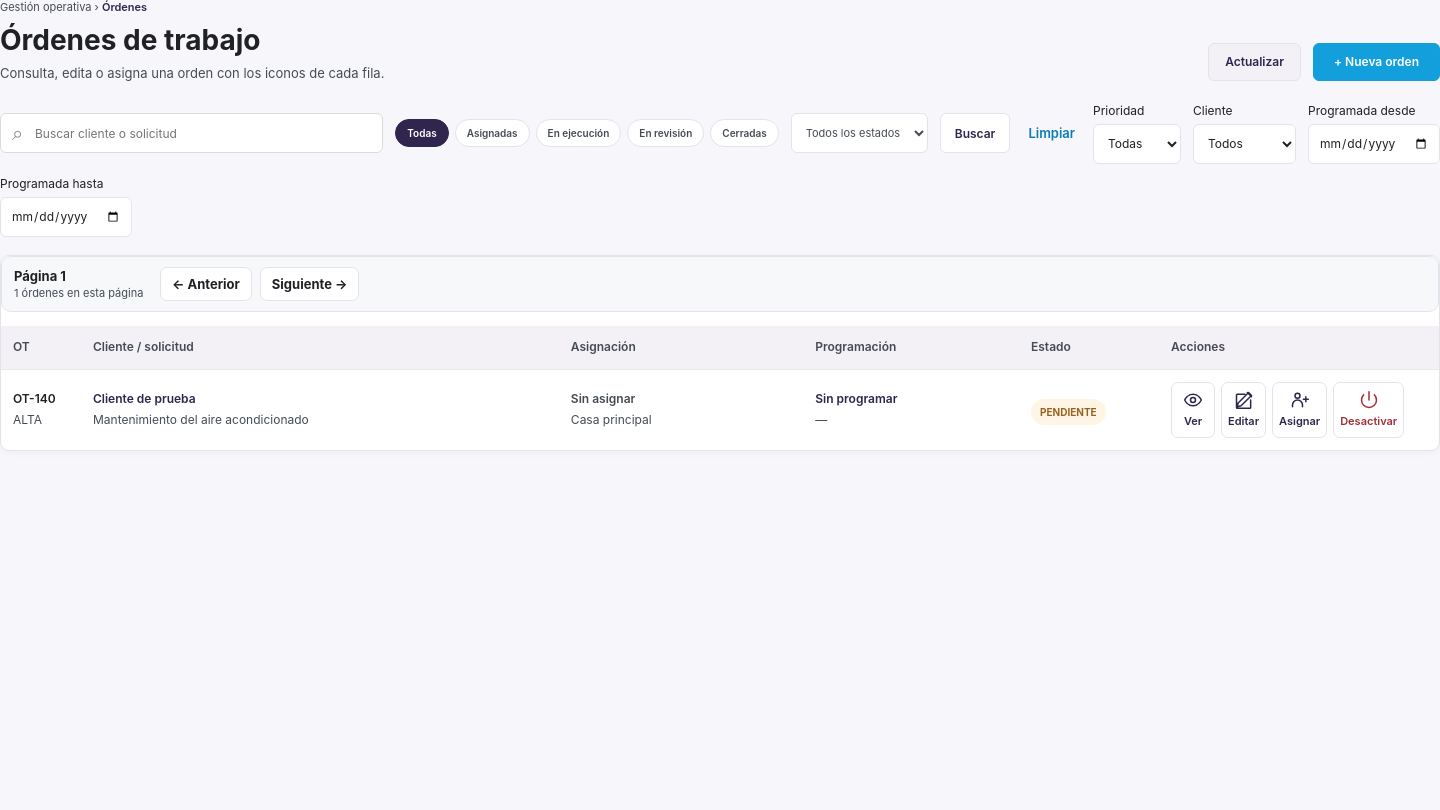
Scenario: Gestión web de órdenes de trabajo › edita desde el listado, envía solo los campos cambiados y conserva los filtros
expect the text "OT-140" is shown: met, box [13,391,56,406]
In the field named "Buscar órdenes": (192, 133) [0,113,383,153], type "motor"
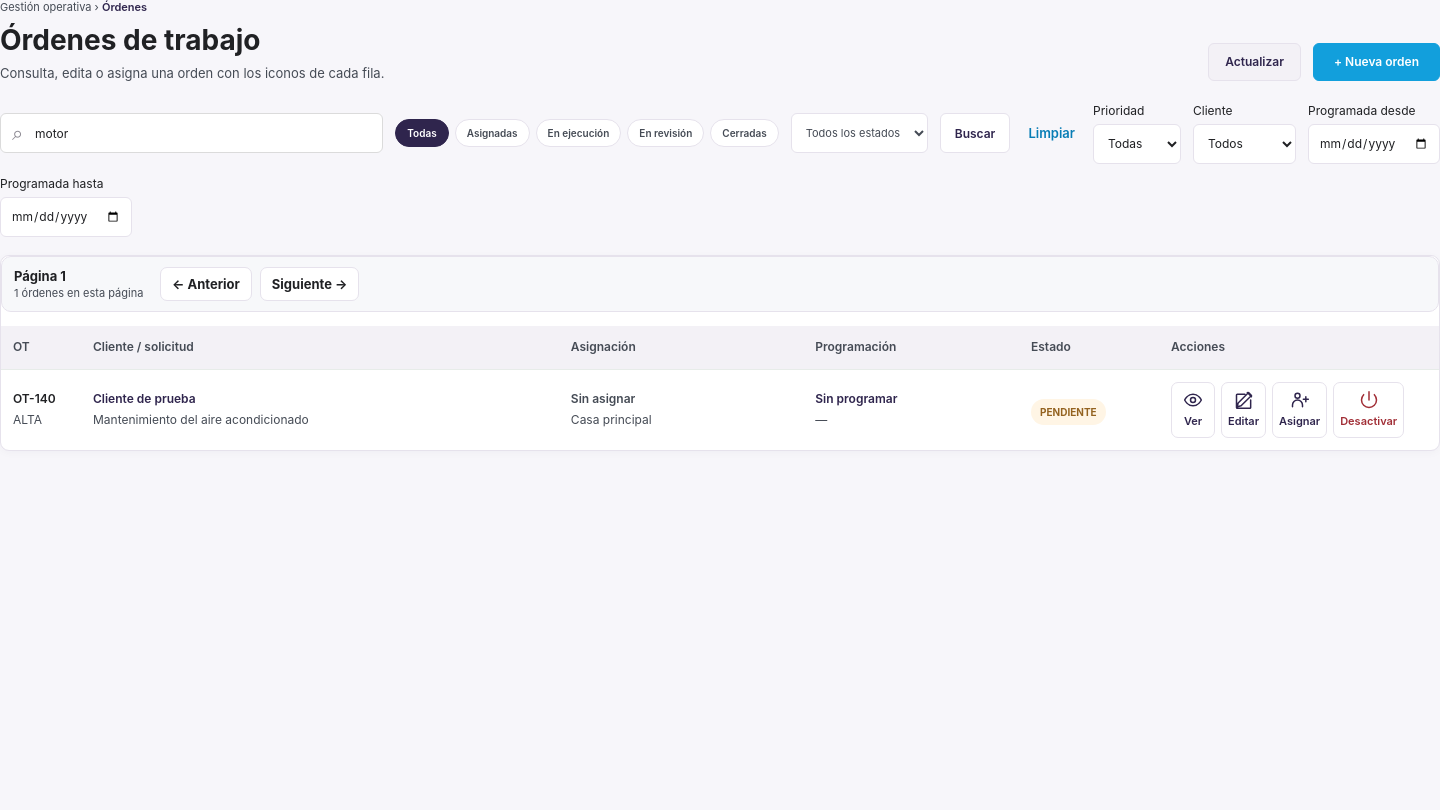
expect the text "OT-140" is shown: met, box [13,391,56,406]
Click the button with aria-label "Editar OT-140": (1244, 410) [1221,382,1266,438]
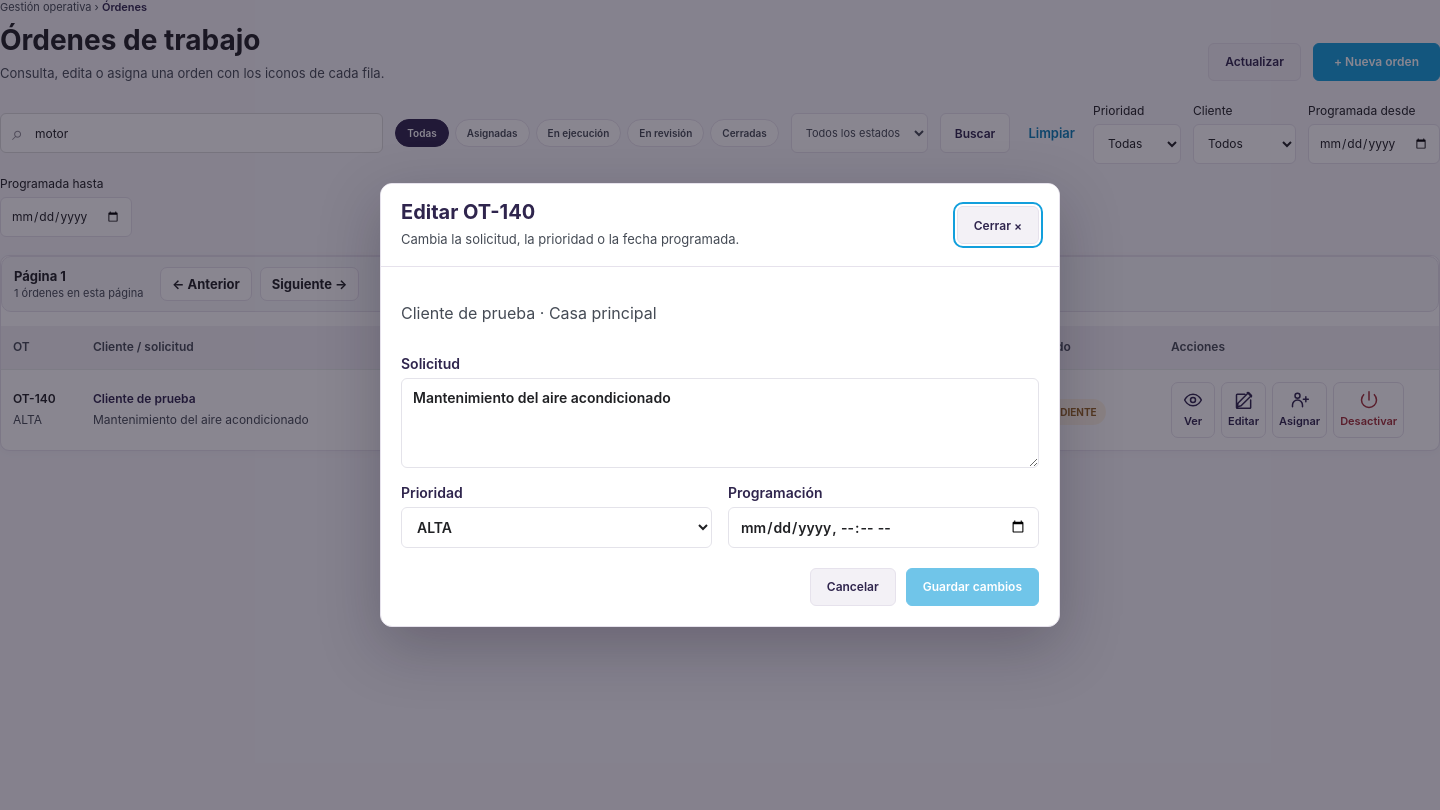
expect the dialog "Editar OT-140" is shown: met, box [380,183,1060,627]
Replace the text in the text box labelled "Solicitud" with "Mantenimiento actualizado del motor": (720, 423) [401,378,1039,468]
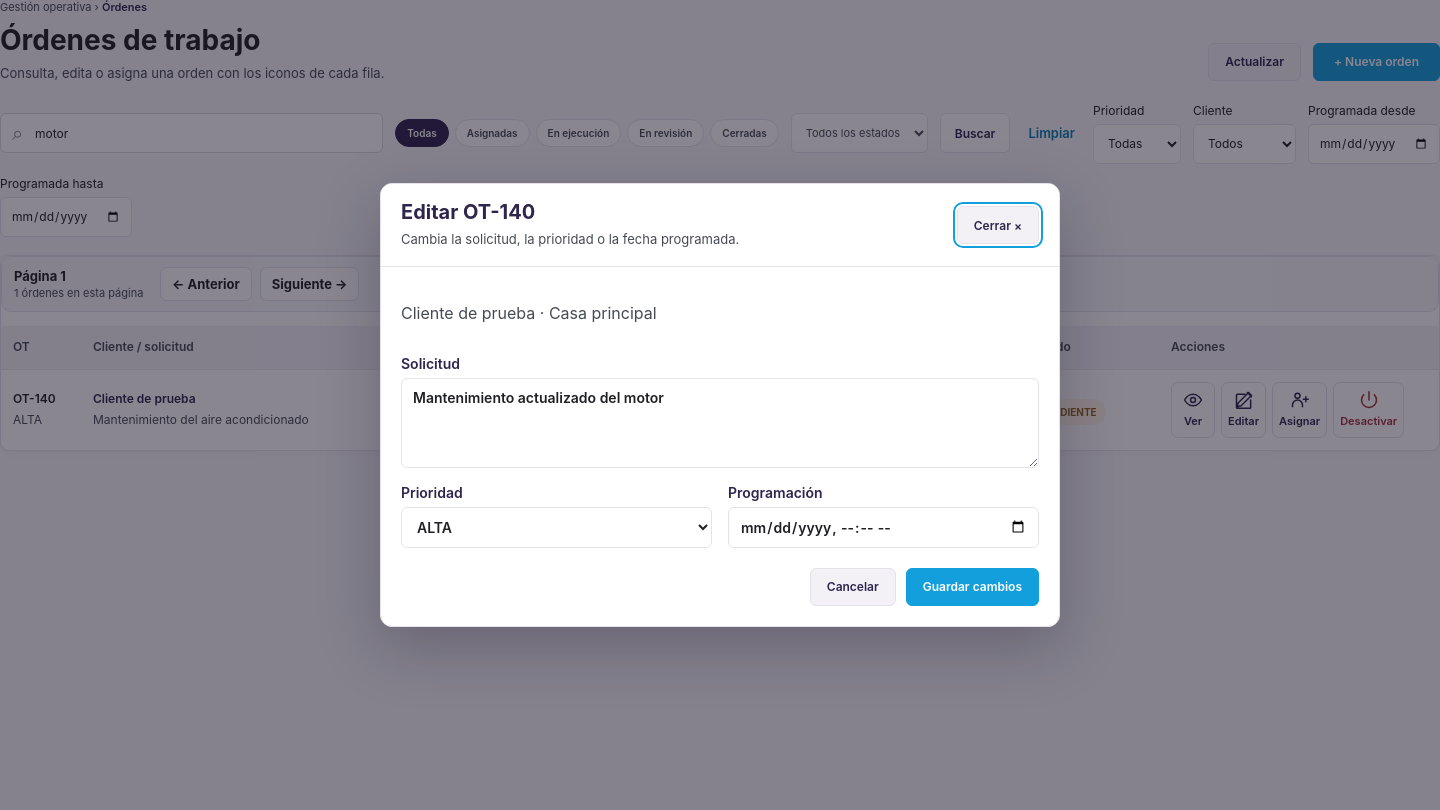
Click the button "Guardar cambios": (972, 587) [906,568,1039,606]
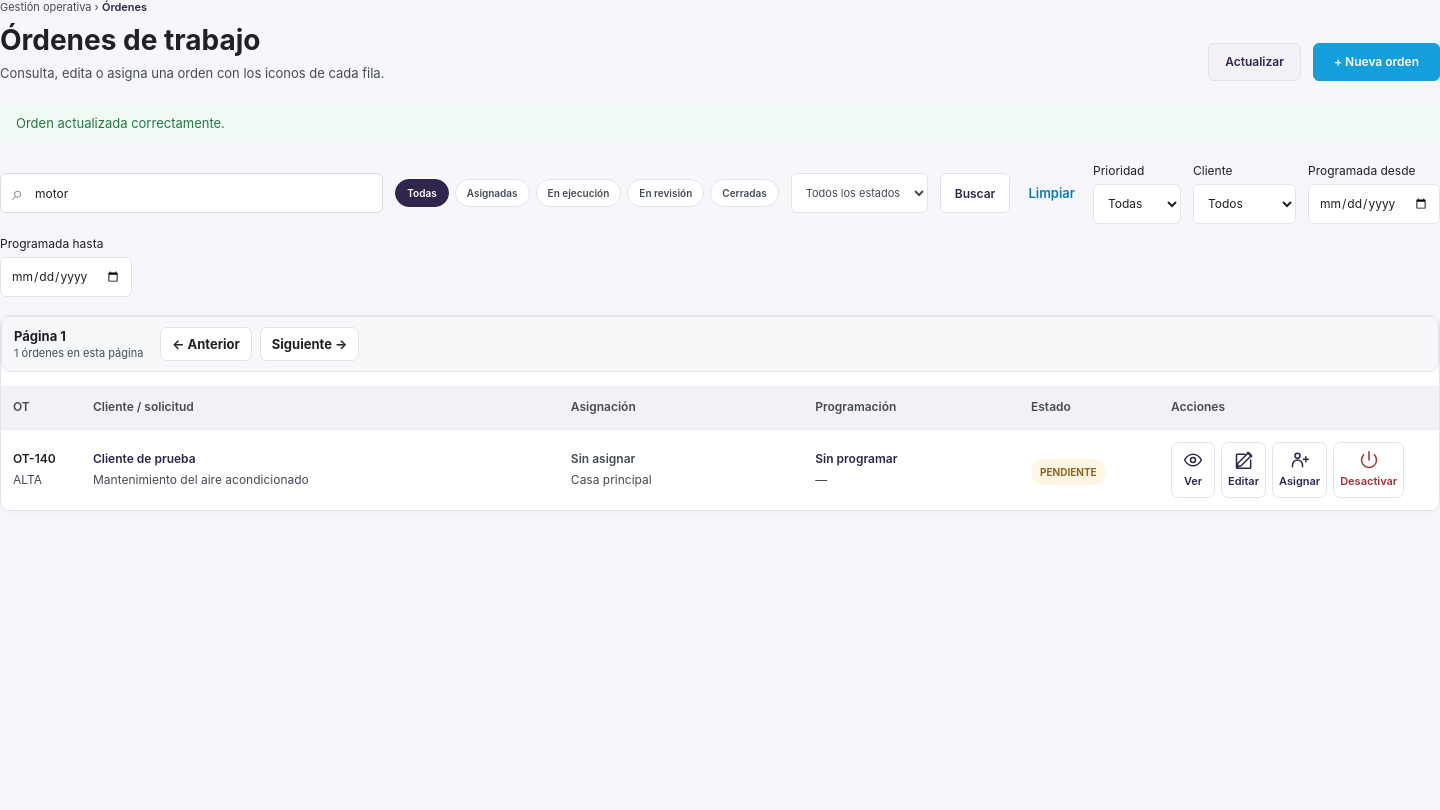
expect the dialog is gone: met
